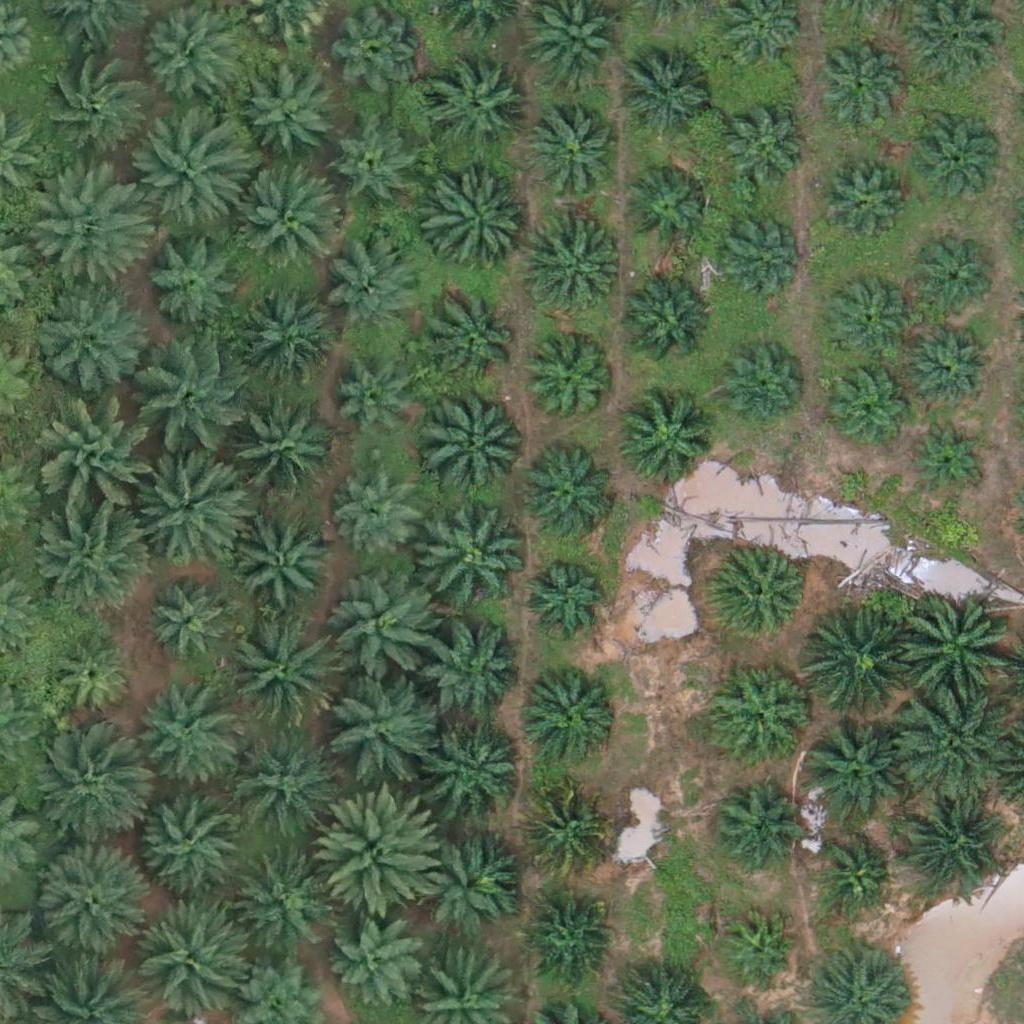Kelapa_Sawit: (319, 790, 444, 916), (321, 668, 434, 782), (222, 397, 335, 511), (223, 616, 336, 729), (227, 728, 340, 841), (134, 783, 247, 896), (31, 844, 144, 957), (800, 610, 913, 723), (415, 499, 528, 612), (139, 343, 252, 456), (38, 501, 151, 614), (328, 574, 441, 687), (421, 384, 533, 498), (138, 120, 250, 234), (44, 405, 156, 519), (901, 689, 1013, 802), (127, 684, 239, 797), (132, 901, 244, 1014), (29, 735, 141, 848), (900, 593, 1012, 706), (235, 166, 347, 279), (134, 448, 246, 561), (31, 279, 143, 392), (31, 164, 143, 277), (35, 51, 147, 164), (801, 719, 901, 820), (521, 661, 621, 762), (428, 720, 528, 821), (231, 849, 331, 950), (619, 43, 719, 144), (615, 275, 715, 376), (616, 391, 716, 492), (525, 219, 625, 320), (425, 59, 525, 160), (425, 175, 525, 276), (234, 513, 334, 614), (240, 64, 340, 165), (139, 225, 239, 326), (899, 794, 999, 894), (712, 662, 812, 762), (423, 627, 523, 727), (413, 827, 513, 927), (710, 547, 810, 647), (518, 447, 618, 547), (427, 291, 527, 391), (328, 235, 428, 335), (235, 291, 335, 391), (134, 7, 234, 107), (709, 779, 797, 867), (520, 785, 608, 873), (46, 634, 134, 722), (718, 106, 806, 194), (711, 208, 799, 296), (813, 156, 901, 244), (911, 111, 999, 199), (527, 341, 615, 429), (519, 554, 607, 642), (146, 579, 234, 667), (523, 893, 610, 981), (331, 917, 418, 1005), (718, 343, 805, 431), (828, 360, 915, 448), (824, 275, 911, 363), (815, 39, 902, 127), (909, 236, 996, 324), (910, 320, 997, 408), (623, 161, 710, 249), (532, 105, 619, 193), (335, 7, 422, 95), (332, 124, 419, 212), (332, 368, 419, 456), (337, 473, 424, 561), (911, 417, 986, 493), (721, 910, 796, 986), (816, 836, 891, 911)
